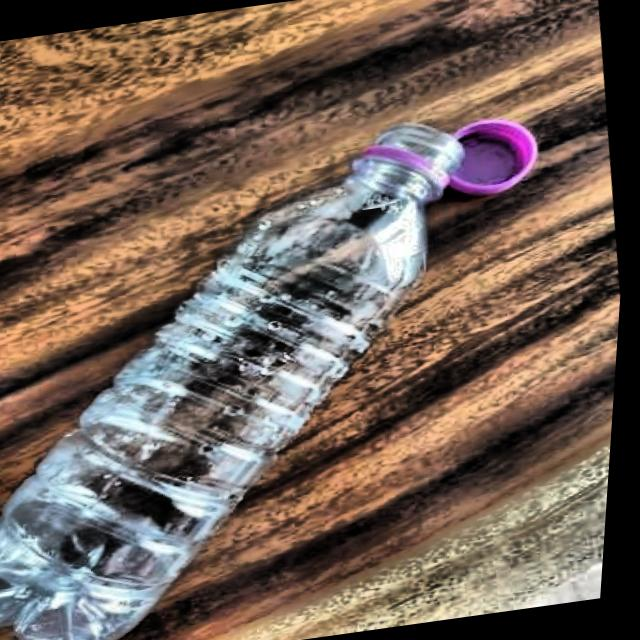Bottles: (0, 104, 547, 640)
